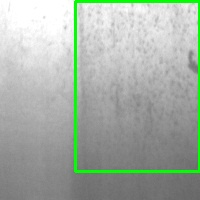pitted_surface: (75, 1, 199, 171)
